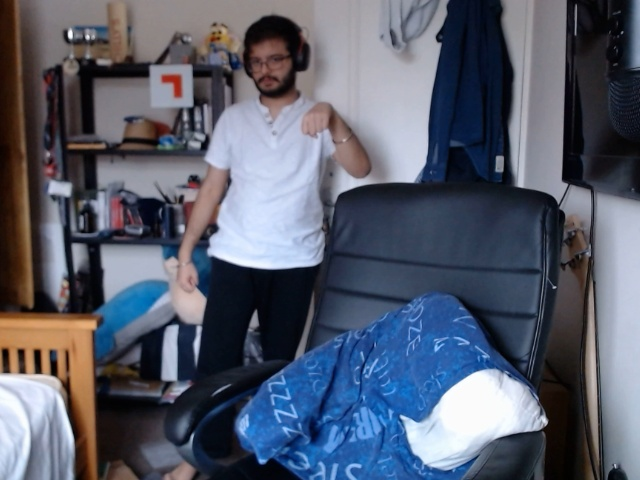Yes: (290, 96, 346, 144)
